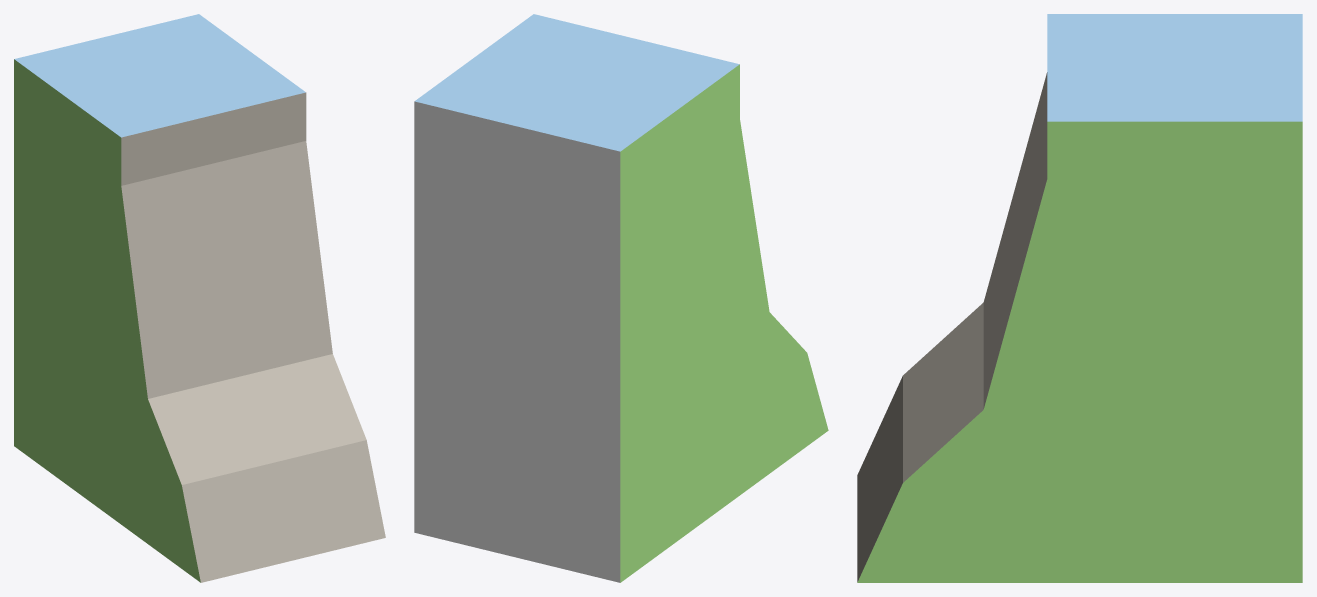
The model's file is Wall_Straight_Basic_1x2_Base.glb.
3 views of the same model, side by side, from view 1: azimuth 30°, elevation 25°; view 2: azimuth 150°, elevation 25°; view 3: azimuth 270°, elevation 25° (orthographic). The views are drawn at different scales.
Visible parts, largest first — view 1: Wall_Straight_Basic_1x2_Base; view 2: Wall_Straight_Basic_1x2_Base; view 3: Wall_Straight_Basic_1x2_Base.
Part boxes in pixels (x1=…): Wall_Straight_Basic_1x2_Base: x1=14, y1=14, x2=385, y2=582; Wall_Straight_Basic_1x2_Base: x1=414, y1=14, x2=828, y2=582; Wall_Straight_Basic_1x2_Base: x1=857, y1=14, x2=1302, y2=582.
Bounding box in the file's own units: 100 × 200 × 175.
